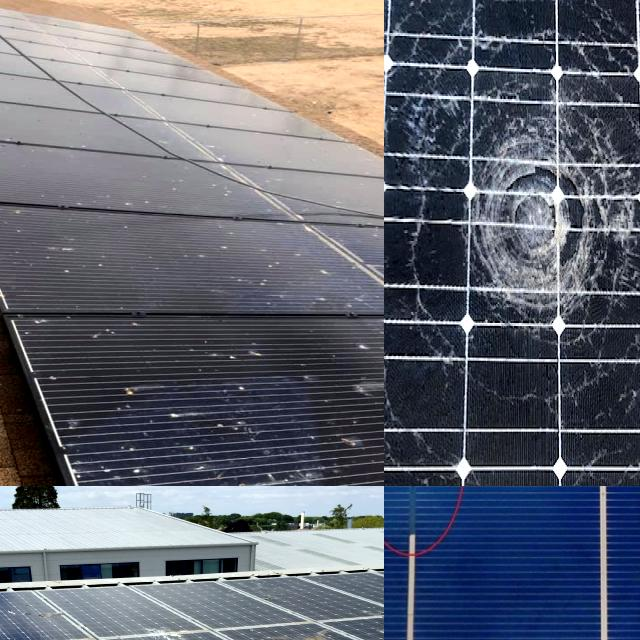bird: (203, 228, 384, 315), (98, 436, 338, 486), (0, 197, 115, 294), (80, 367, 270, 422), (325, 331, 384, 476), (299, 612, 384, 640)
hotspot: (460, 108, 620, 332)
shadow: (388, 486, 448, 566)
